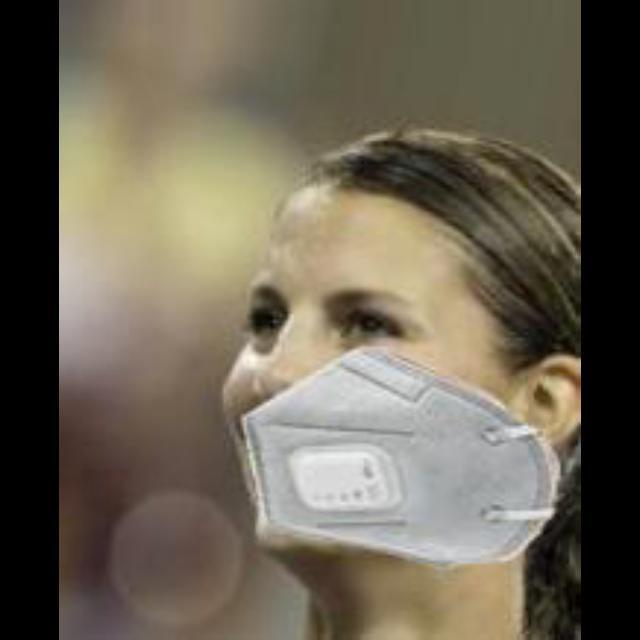suspicion: (182, 108, 574, 604)
